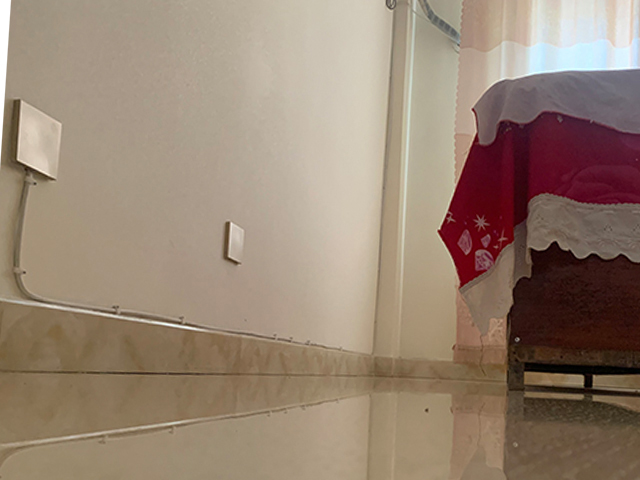bed: (436, 67, 640, 390)
curtain: (452, 1, 640, 369)
